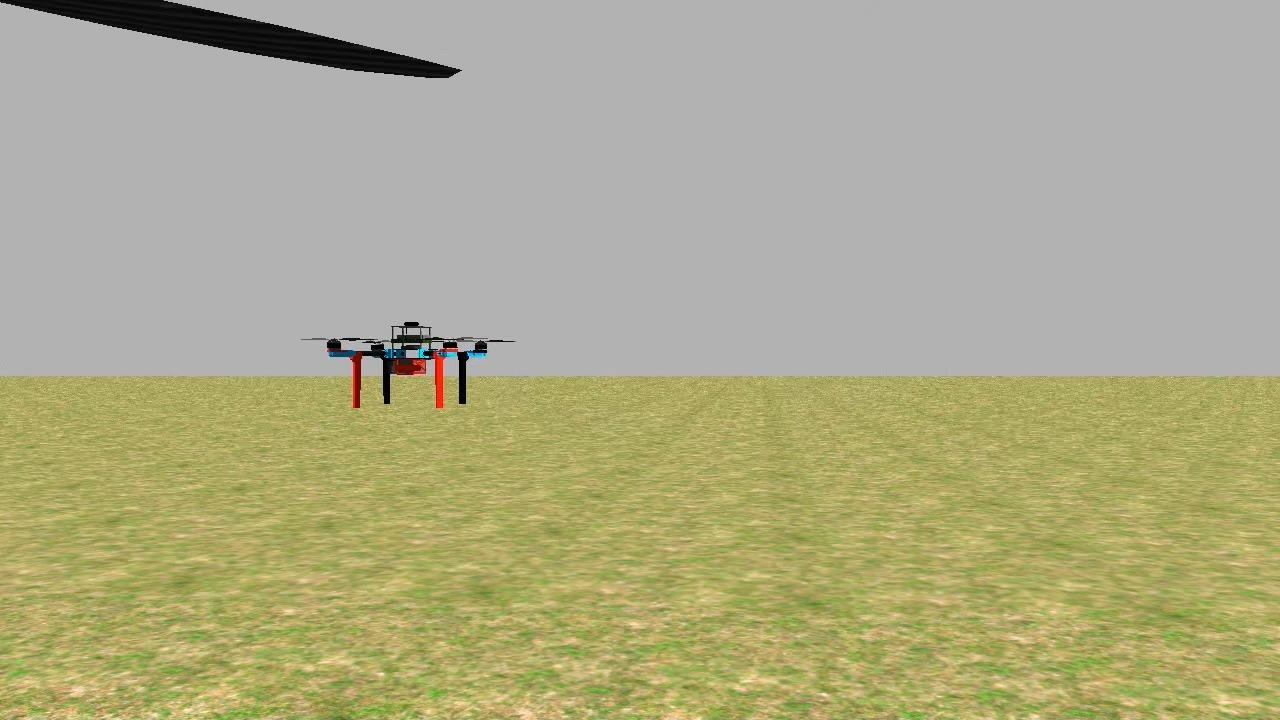UAV: (318, 299, 494, 428)
